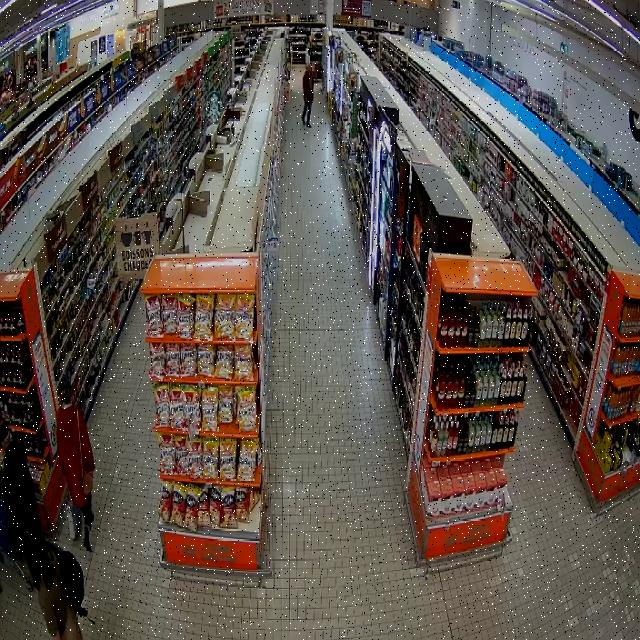bags: (48, 542, 88, 616), (77, 408, 92, 494)
person: (23, 529, 82, 639), (58, 401, 95, 551), (0, 419, 40, 544), (302, 64, 313, 127)
